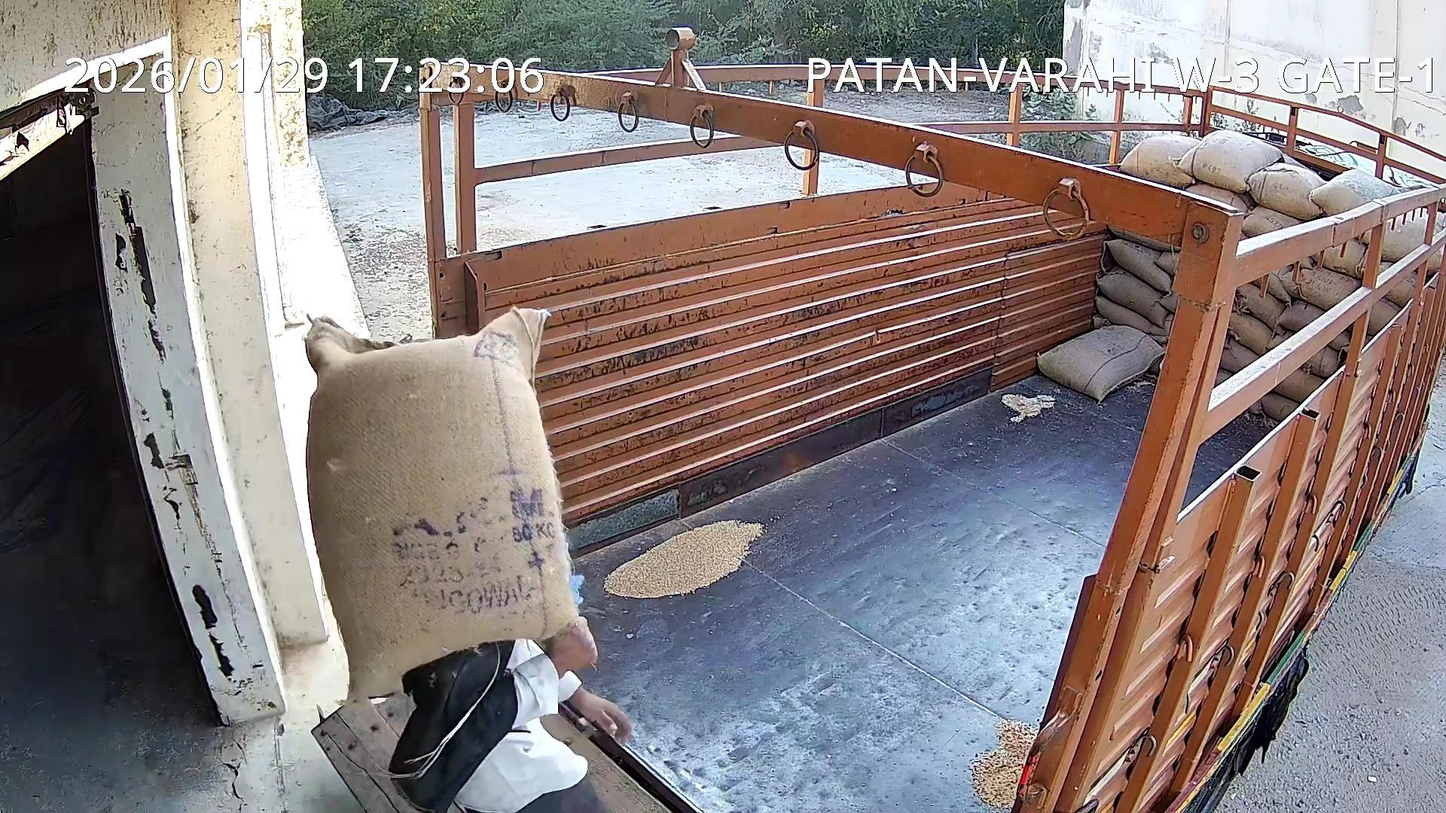Sack: (306, 308, 577, 700)
